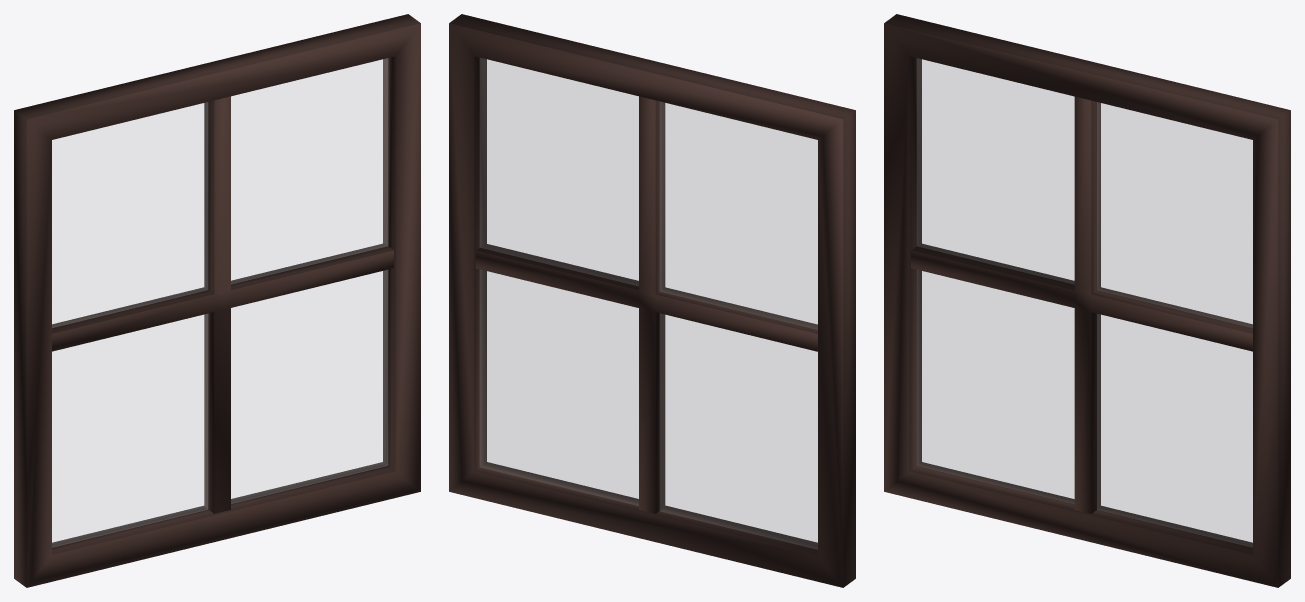
The model's file is furnishings-indoor-window_v1.glb.
The picture shows the model from 3 angles, left to right: view 1: azimuth 30°, elevation 25°; view 2: azimuth 150°, elevation 25°; view 3: azimuth 330°, elevation 25°; orthographic projection.
Visible parts, largest first — view 1: Window_Transp, Window_base; view 2: Window_Transp, Window_base; view 3: Window_Transp, Window_base.
Boxes of the visible parts, bbox=[...] form: Window_Transp: bbox=[52, 58, 387, 547]; Window_base: bbox=[14, 14, 420, 587]; Window_Transp: bbox=[480, 58, 817, 549]; Window_base: bbox=[449, 14, 855, 587]; Window_Transp: bbox=[917, 58, 1252, 547]; Window_base: bbox=[884, 14, 1290, 587].
Bounding box in the file's own units: 1.28 × 1.45 × 0.0708.
